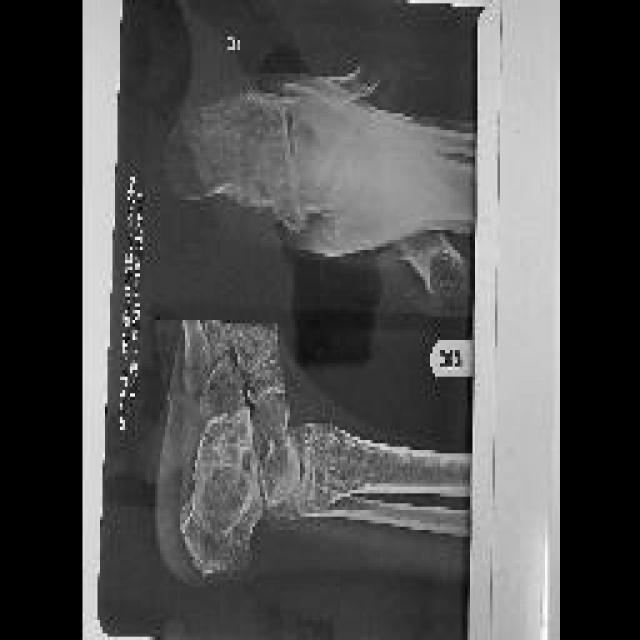bone-cancer: (191, 407, 258, 536)
